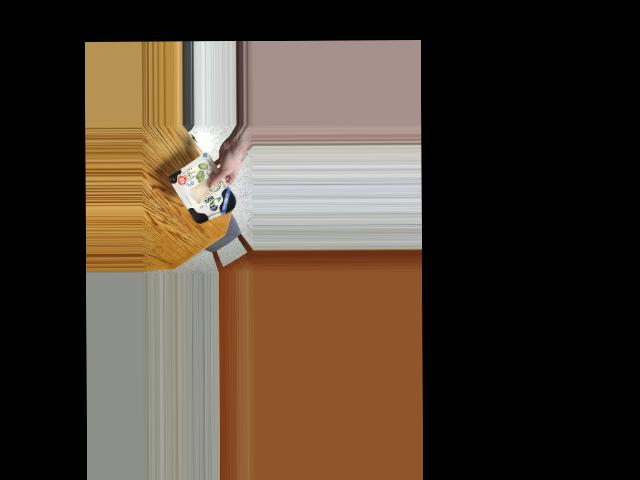cheese: (174, 161, 236, 228)
